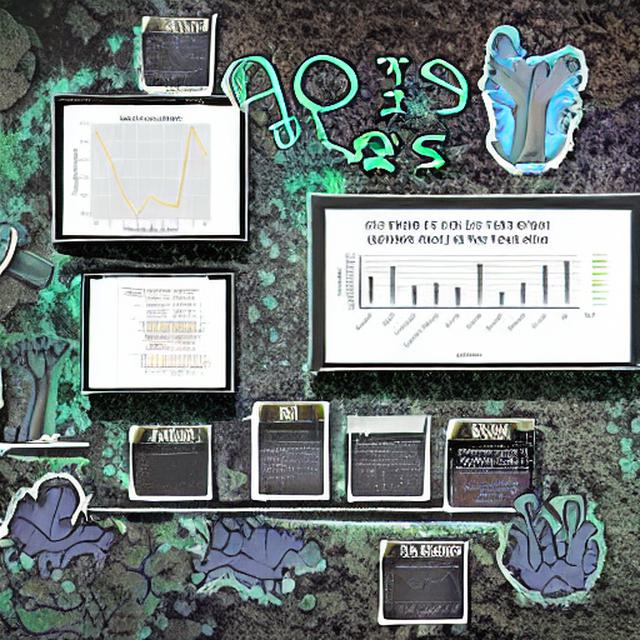Graph: (329, 215, 581, 360), (65, 108, 232, 233), (382, 562, 464, 619), (139, 451, 209, 492), (137, 342, 205, 382)
